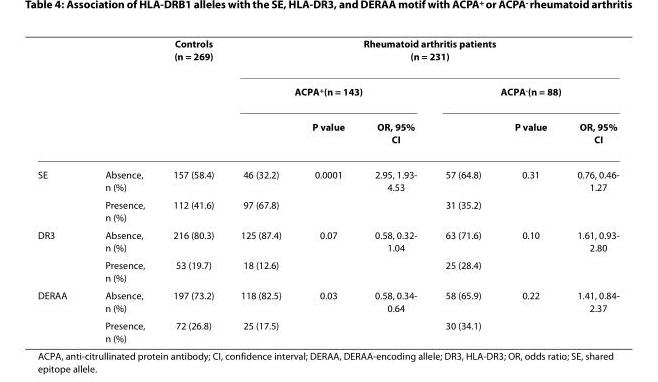table: (36, 36, 618, 343)
table column: (85, 36, 158, 343), (359, 36, 430, 343), (226, 36, 296, 343), (158, 36, 226, 343), (430, 36, 497, 343), (497, 36, 561, 343), (296, 36, 359, 343), (561, 36, 618, 343), (36, 36, 85, 343)
table column header: (36, 36, 618, 156)
table row: (36, 108, 618, 156), (36, 156, 618, 195), (36, 36, 618, 73), (36, 73, 618, 108), (36, 255, 618, 286), (36, 195, 618, 225), (36, 225, 618, 255), (36, 286, 618, 316), (36, 316, 618, 343)
table spanning cell: (226, 36, 618, 73), (158, 36, 226, 156), (226, 73, 430, 108), (430, 73, 618, 108), (36, 156, 85, 225), (36, 225, 85, 286), (36, 286, 85, 343)
